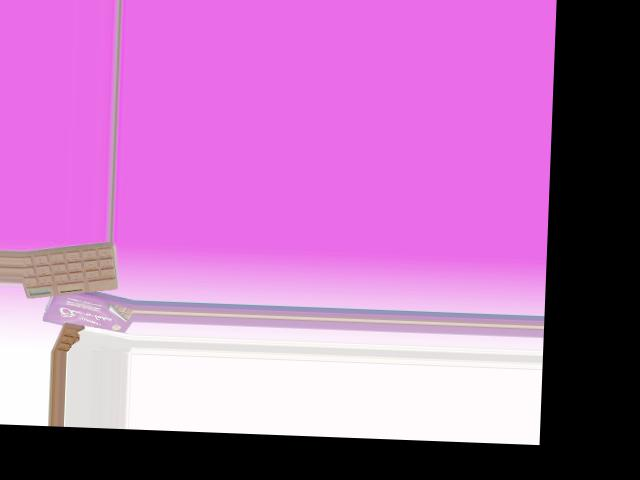chocolate: (25, 238, 118, 303)
